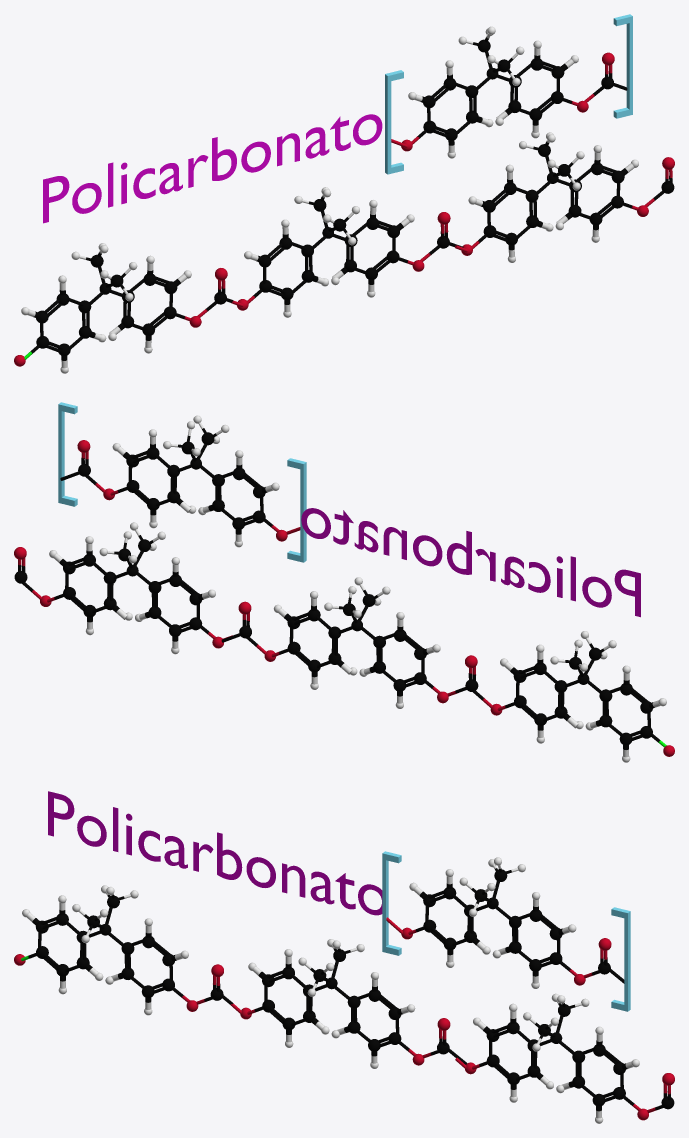
The model's file is policarbonato.glb.
3 renders of one model, top to bottom at view 1: azimuth 30°, elevation 25°; view 2: azimuth 150°, elevation 25°; view 3: azimuth 330°, elevation 25°, orthographic.
Parts seen in each view (by area): view 1: Text.008, Cube.020, Cube.019; view 2: Text.008, Cube.020, Cube.019; view 3: Text.008, Cube.020, Cube.019.
Boxes of the visible parts, x1,y1,x2,y2 form: Text.008: [43, 114, 382, 223]; Cube.020: [613, 14, 632, 118]; Cube.019: [385, 70, 403, 174]; Text.008: [301, 508, 640, 617]; Cube.020: [58, 402, 77, 506]; Cube.019: [287, 458, 306, 562]; Text.008: [48, 791, 382, 915]; Cube.020: [611, 907, 630, 1011]; Cube.019: [382, 851, 401, 955].
Size of the model in its own units: 379 by 132 by 43.28.
